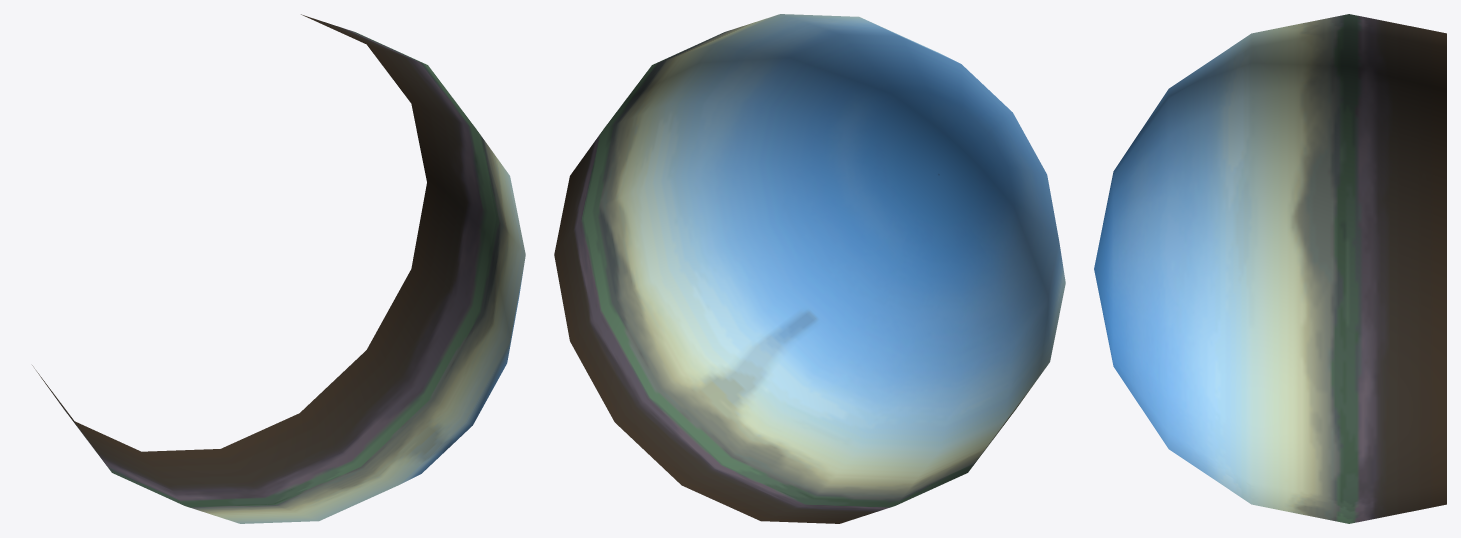
The model's file is model_skydome.glb.
3 views of the same model, side by side, from view 1: azimuth 30°, elevation 25°; view 2: azimuth 150°, elevation 25°; view 3: azimuth 270°, elevation 25° (orthographic).
Visible parts, largest first — view 1: A:\.Yandex.YandexDisk.SK SHARED FILES.Game models.1 Exported; view 2: A:\.Yandex.YandexDisk.SK SHARED FILES.Game models.1 Exported; view 3: A:\.Yandex.YandexDisk.SK SHARED FILES.Game models.1 Exported.
Boxes of the visible parts, x1,y1,x2,y2 form: A:\.Yandex.YandexDisk.SK SHARED FILES.Game models.1 Exported: [32, 14, 525, 523]; A:\.Yandex.YandexDisk.SK SHARED FILES.Game models.1 Exported: [554, 14, 1065, 523]; A:\.Yandex.YandexDisk.SK SHARED FILES.Game models.1 Exported: [1094, 14, 1446, 523].
Size of the model in its own units: 2 by 2 by 1.38.
Materials: 1 (1 with a texture image).
